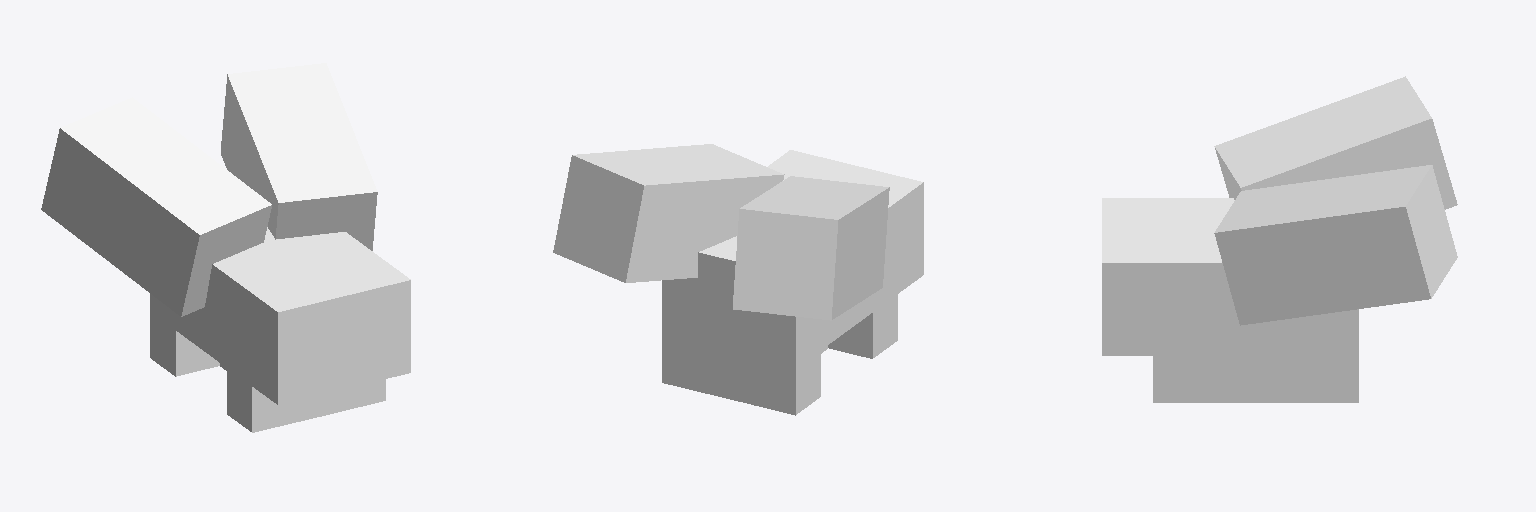
File: bug.obj
3 views of the same model, side by side, from view 1: azimuth 30°, elevation 25°; view 2: azimuth 150°, elevation 25°; view 3: azimuth 270°, elevation 25° (orthographic).
Parts seen in each view (by area): view 1: Bug.001, Bug, Bug.002; view 2: Bug.001, Bug, Bug.002; view 3: Bug.001, Bug, Bug.002.
Boxes of the visible parts, x1=… form: Bug.001: x1=41, y1=63, x2=377, y2=316; Bug: x1=150, y1=227, x2=410, y2=432; Bug.002: x1=220, y1=363, x2=385, y2=421; Bug.001: x1=553, y1=144, x2=889, y2=320; Bug: x1=662, y1=150, x2=923, y2=415; Bug.002: x1=707, y1=346, x2=827, y2=403; Bug.001: x1=1214, y1=76, x2=1457, y2=325; Bug: x1=1102, y1=198, x2=1358, y2=402; Bug.002: x1=1205, y1=356, x2=1306, y2=402.
Bounding box in the file's own units: 0.627 × 0.4928 × 0.6937.